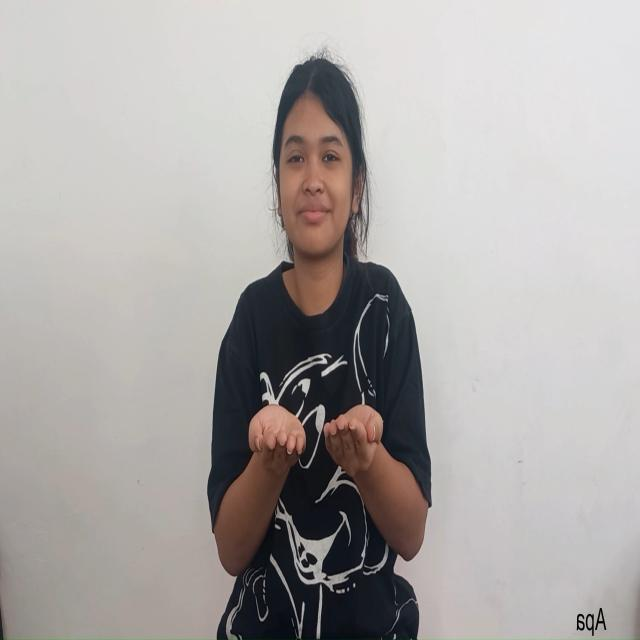Apa -BISINDO-: (209, 279, 431, 585)
